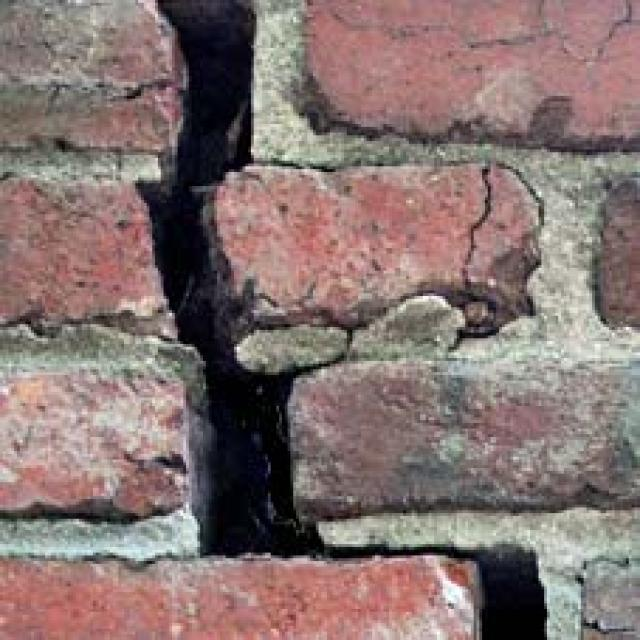Crack: (97, 0, 577, 640)
